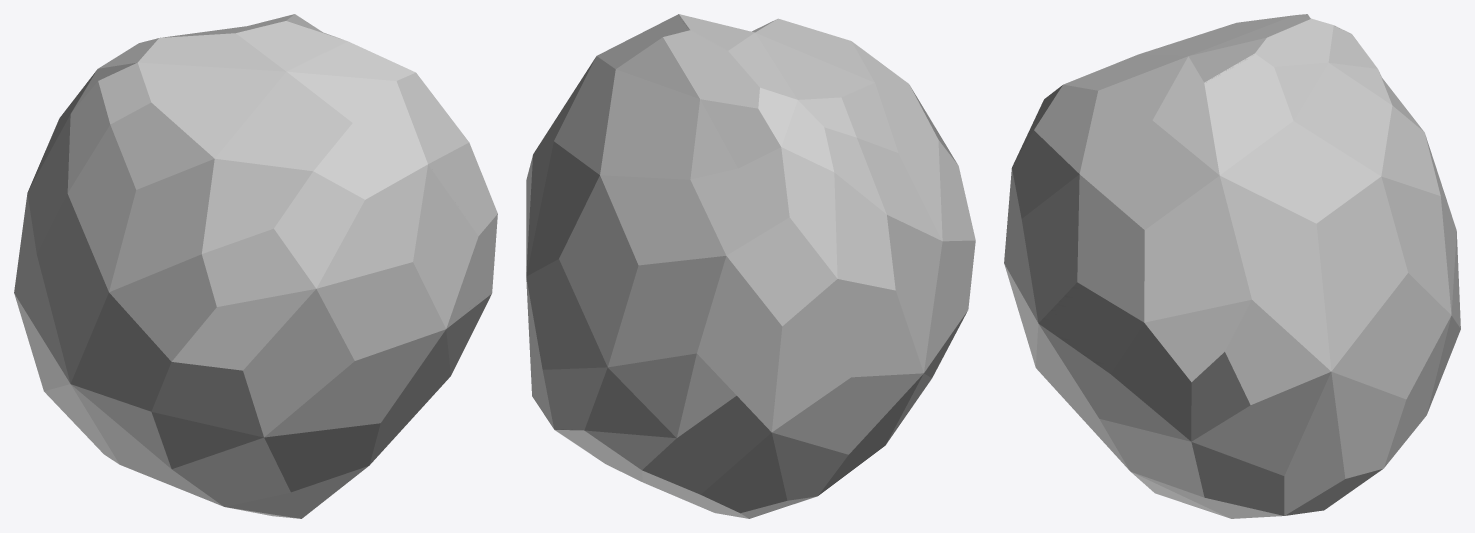
The model's file is Low_Poly_Rock1.fbx.
The picture shows the model from 3 angles, left to right: view 1: azimuth 30°, elevation 25°; view 2: azimuth 150°, elevation 25°; view 3: azimuth 270°, elevation 25°; orthographic projection. The views are drawn at different scales.
Visible parts, largest first — view 1: Rock1; view 2: Rock1; view 3: Rock1.
Part boxes in pixels (<box>): Rock1: <box>14,14,497,518</box>; Rock1: <box>526,14,975,518</box>; Rock1: <box>1004,14,1460,518</box>.
Size of the model in its own units: 136 by 148 by 131.
